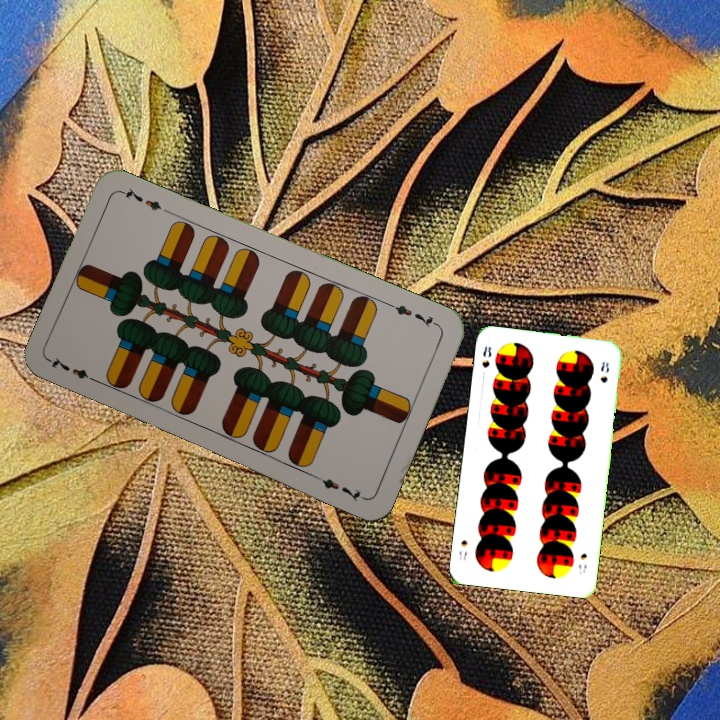E7: (46, 353, 102, 386), (385, 299, 441, 330)
S8: (478, 342, 494, 370), (575, 549, 589, 576)
